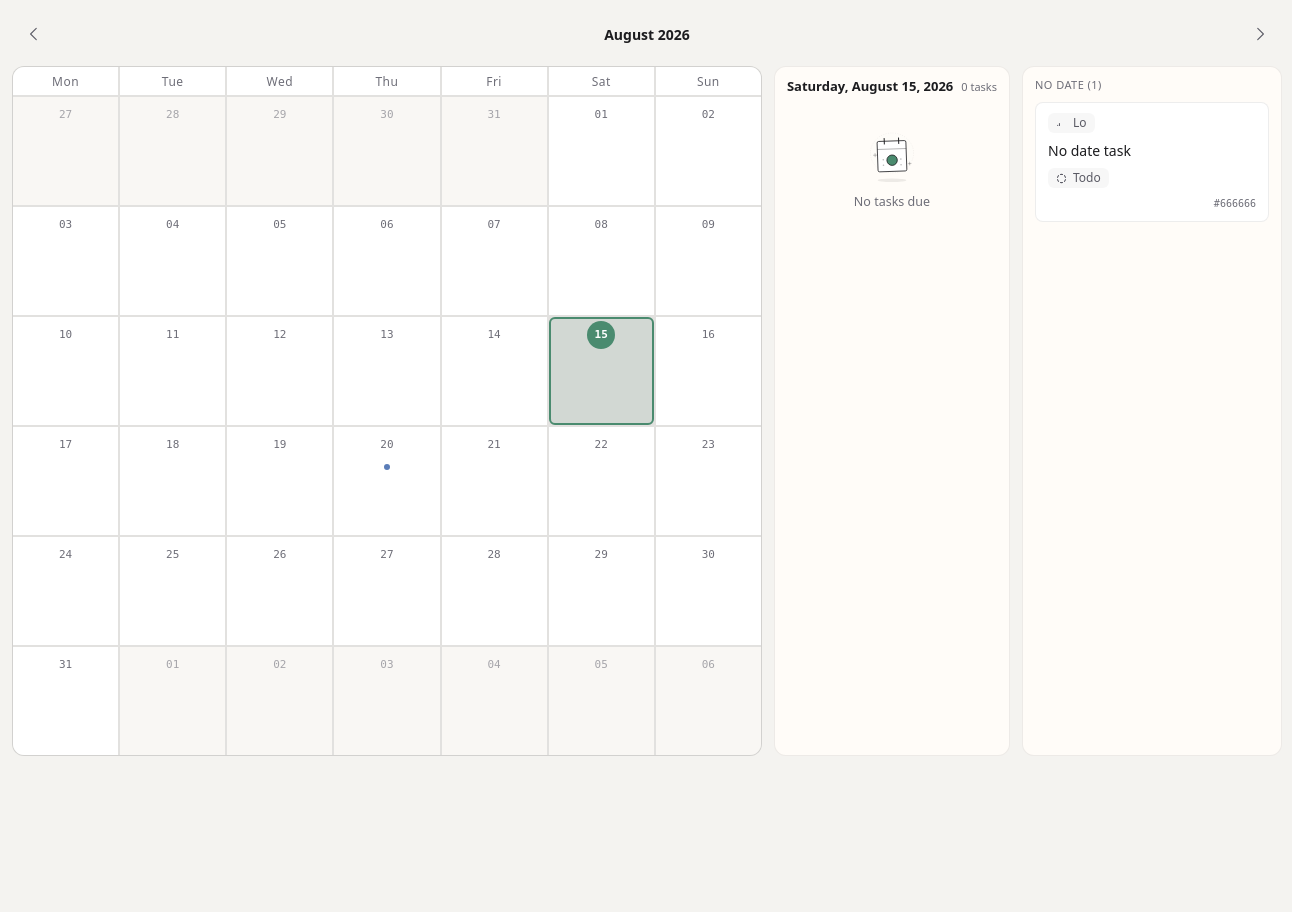
it: DueCalendar archive / read-only gating › menyembunyikan tombol Task mobile saat canEdit false
// Tap tetap seleksi tanggal (baca) tanpa create.
Step 1. Click the cell "20" → point(387, 481), box x1=334 y1=427 x2=440 y2=535
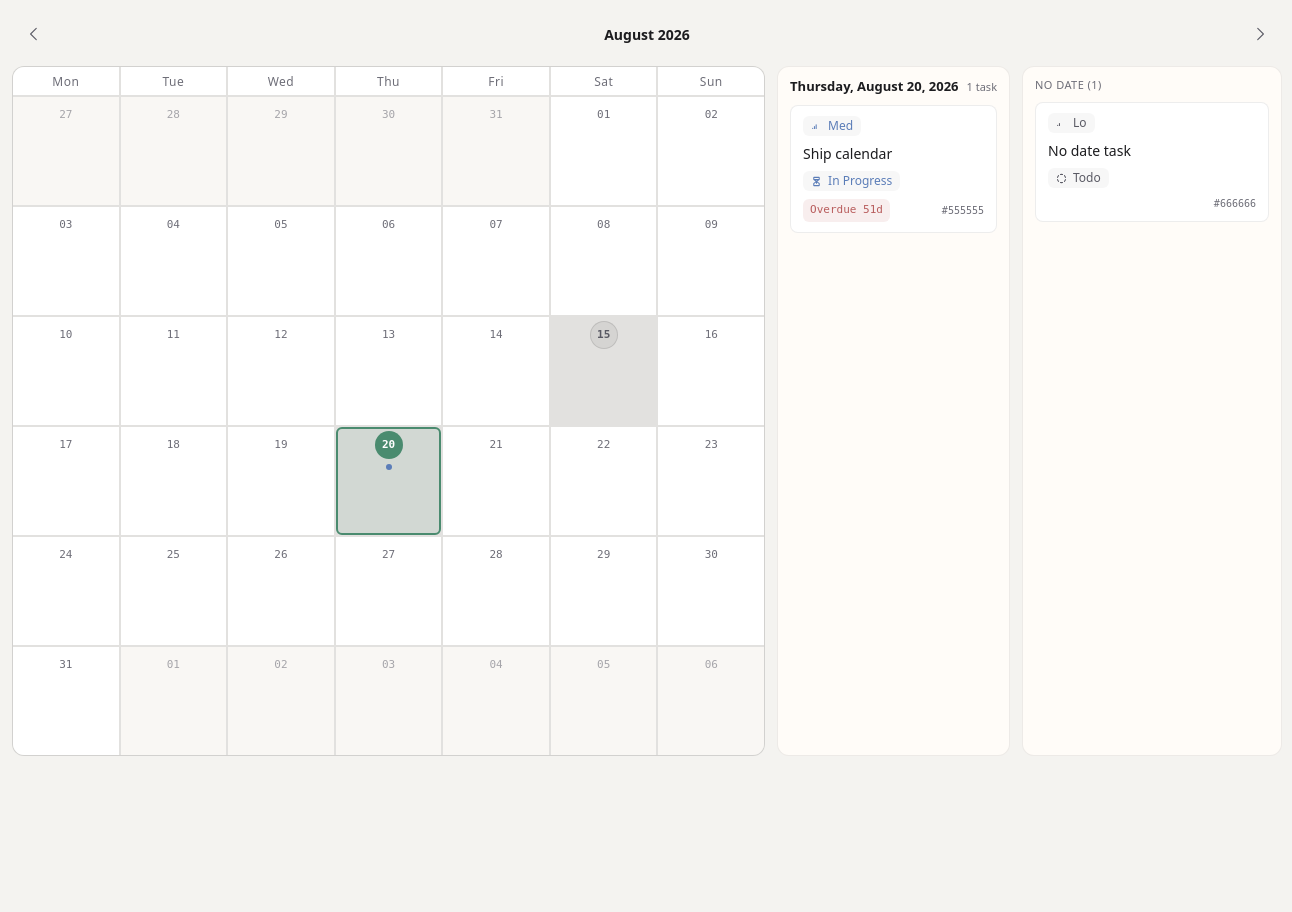
Now the text "Ship calendar" is shown, box x1=803 y1=144 x2=892 y2=162
